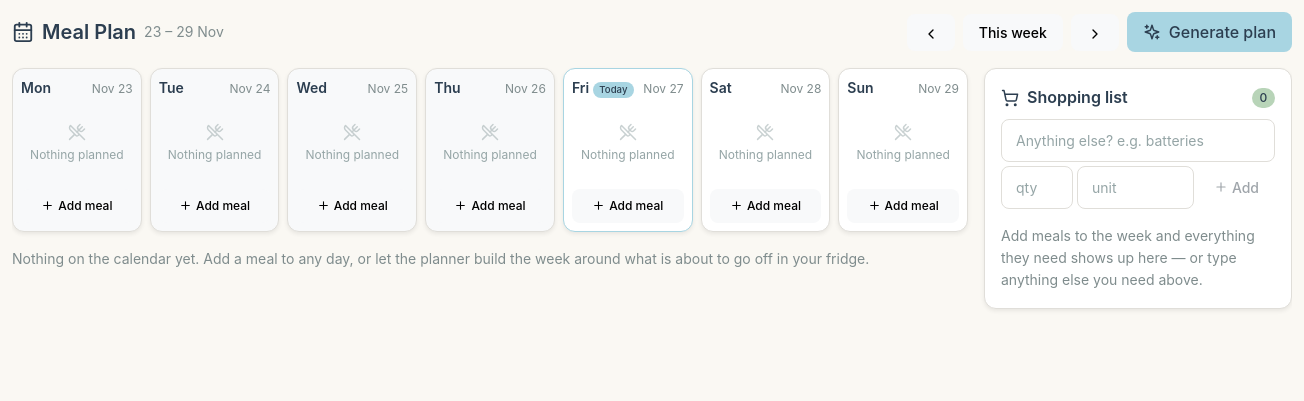
generating a plan › warns when the plan was built without the AI
expect the heading "Meal Plan" is shown: met, box [42,19,136,45]
Step 1. Click the button "Generate plan" → (1209, 32), box [1127,12,1292,52]
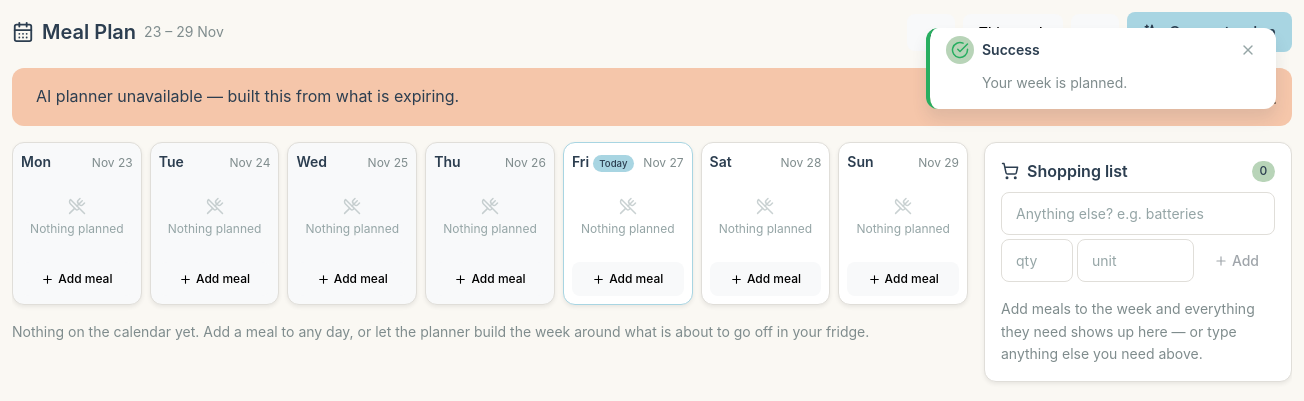
expect the text "AI planner unavailable — built this from what is expiring." is shown: met, box [12,68,1292,126]
